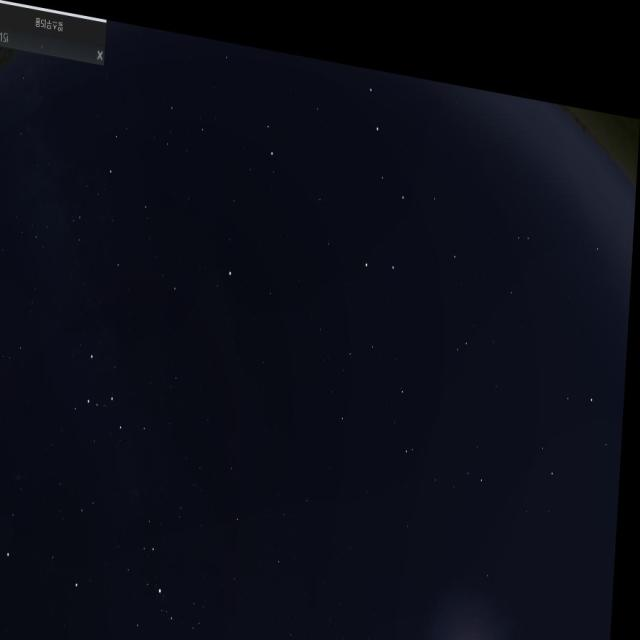moon: (444, 606, 503, 640)
ursa_major: (348, 52, 450, 298)
